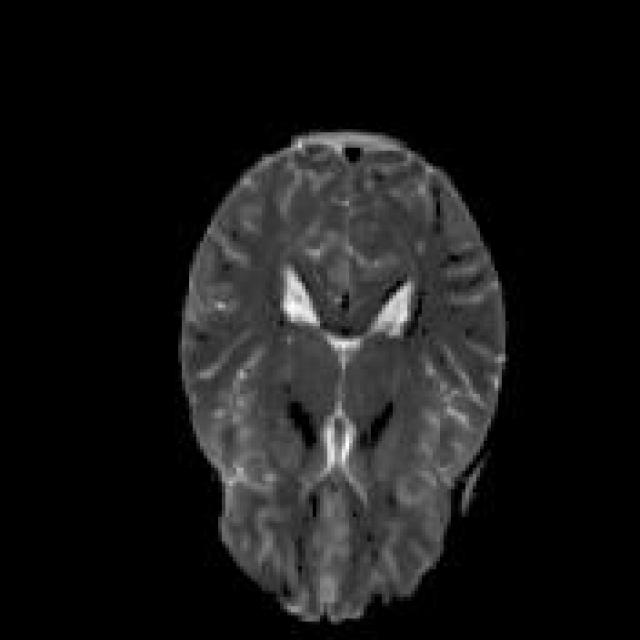CONTROL: (174, 126, 506, 625)
